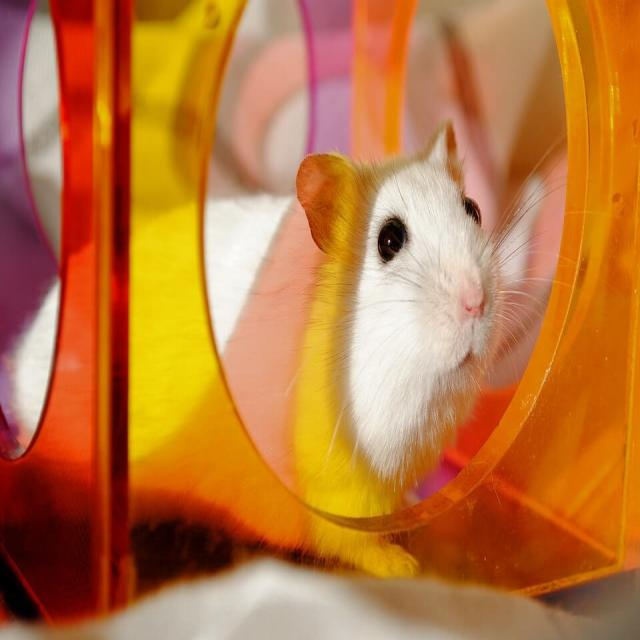hamster: (294, 124, 509, 521)
